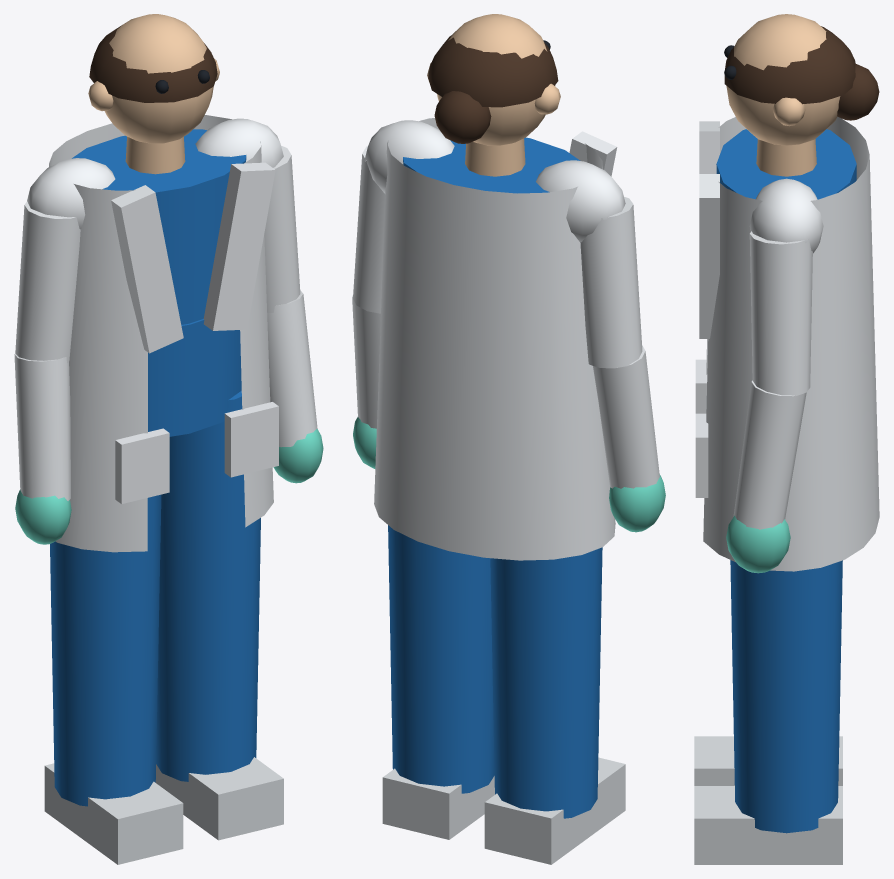
The model's file is staff_doctor.glb.
3 renders of one model, left to right at view 1: azimuth 30°, elevation 25°; view 2: azimuth 150°, elevation 25°; view 3: azimuth 270°, elevation 25°, orthographic.
Visible parts, largest first — view 1: staff_doctor_coat, staff_doctor_scrub, staff_doctor_shoe, staff_doctor_skin, staff_doctor_hair, staff_doctor_glove; view 2: staff_doctor_coat, staff_doctor_scrub, staff_doctor_shoe, staff_doctor_hair, staff_doctor_skin, staff_doctor_glove; view 3: staff_doctor_coat, staff_doctor_scrub, staff_doctor_shoe, staff_doctor_skin, staff_doctor_hair, staff_doctor_glove.
Part boxes in pixels (x1,y1,x2,y2): staff_doctor_coat: (14, 115, 317, 552); staff_doctor_scrub: (50, 129, 260, 806); staff_doctor_shoe: (44, 757, 283, 864); staff_doctor_skin: (88, 14, 219, 174); staff_doctor_hair: (89, 25, 217, 102); staff_doctor_glove: (15, 429, 323, 544); staff_doctor_coat: (352, 118, 659, 560); staff_doctor_scrub: (388, 137, 602, 818); staff_doctor_shoe: (382, 757, 625, 864); staff_doctor_hair: (428, 34, 558, 143); staff_doctor_skin: (427, 14, 560, 176); staff_doctor_glove: (353, 417, 665, 532); staff_doctor_coat: (695, 116, 879, 571); staff_doctor_scrub: (716, 129, 856, 833); staff_doctor_shoe: (694, 736, 842, 864); staff_doctor_skin: (726, 14, 840, 176); staff_doctor_hair: (724, 26, 879, 120); staff_doctor_glove: (726, 515, 790, 573).
Size of the model in its own units: 0.6831 by 1.73 by 0.3614.
